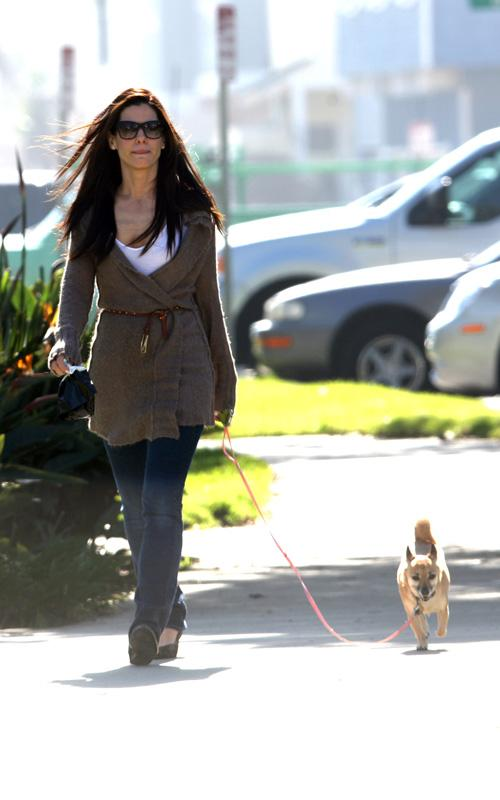person: (51, 88, 236, 666)
